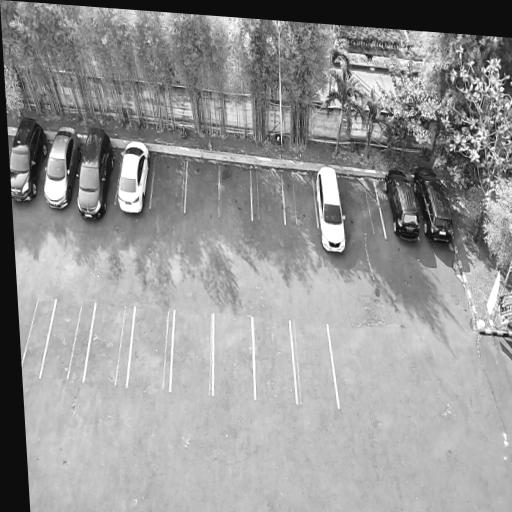Car: (72, 122, 116, 224), (39, 117, 84, 212), (9, 110, 51, 206), (408, 161, 457, 243), (380, 161, 425, 244), (114, 131, 154, 221), (311, 163, 350, 255)
Space Available: (39, 298, 95, 381), (83, 301, 135, 387), (291, 319, 339, 409), (127, 305, 174, 392), (252, 316, 298, 404), (213, 313, 256, 398), (170, 310, 212, 393), (17, 293, 56, 379), (149, 150, 188, 212), (250, 163, 286, 222), (282, 170, 318, 226), (185, 156, 220, 213), (219, 159, 252, 219)
